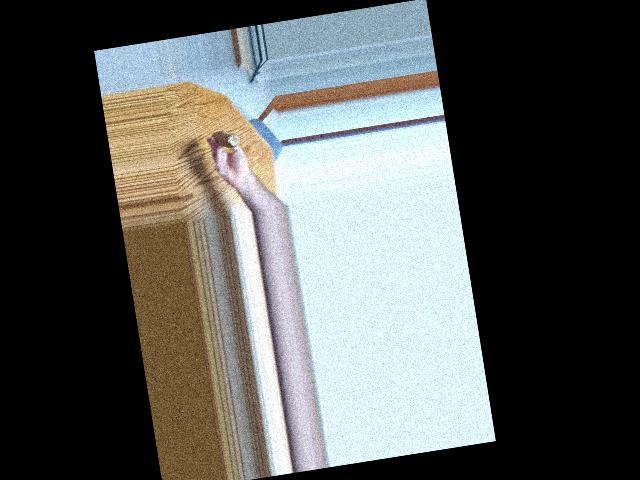sweet_potato: (210, 127, 244, 155)
